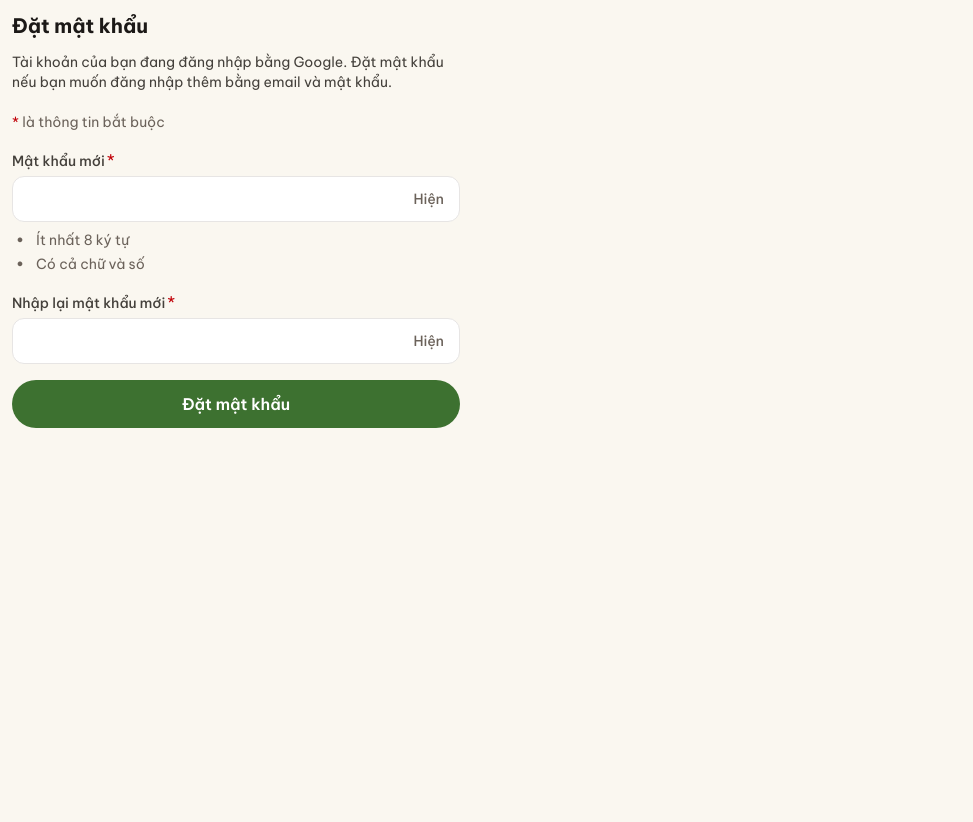
Test: ChangePasswordPage › sets a first password for a Google-only account, without asking for a current one
The image size is (973, 822).
Expected: the heading "Đặt mật khẩu" is shown, [12,13,148,38]
Type "matkhau123" into the password field labelled "Mật khẩu mới" at (236, 199), box [12,176,460,222]
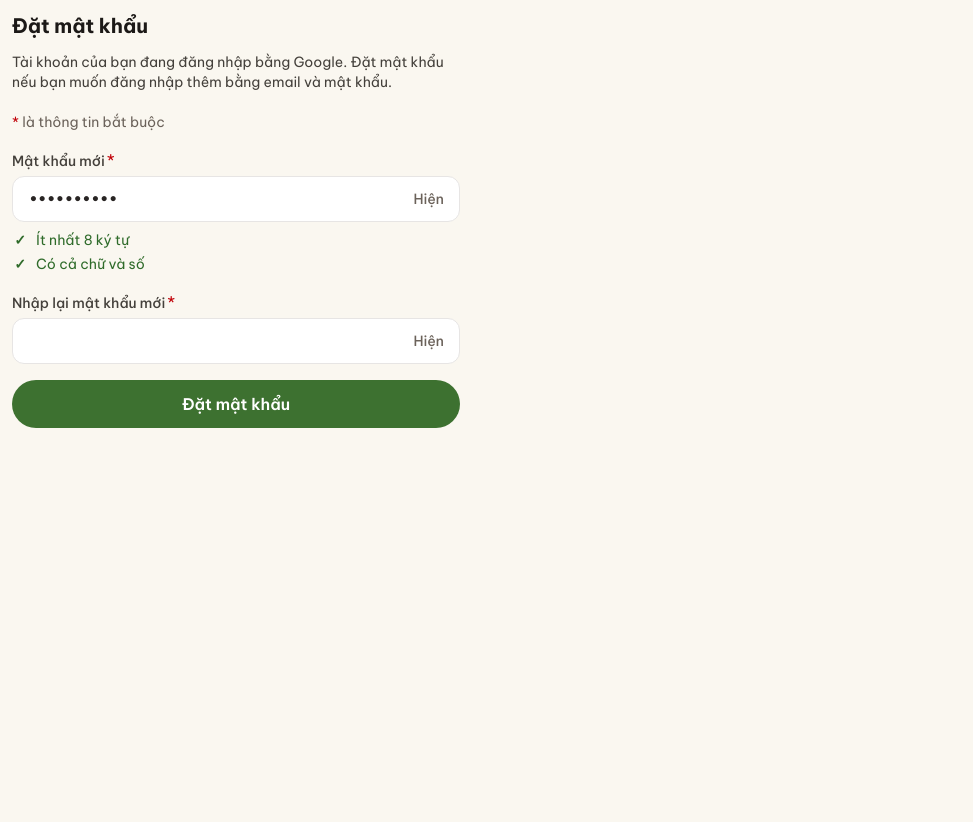
Type "matkhau123" into the password field labelled "Nhập lại mật khẩu mới" at (236, 341), box [12,318,460,364]
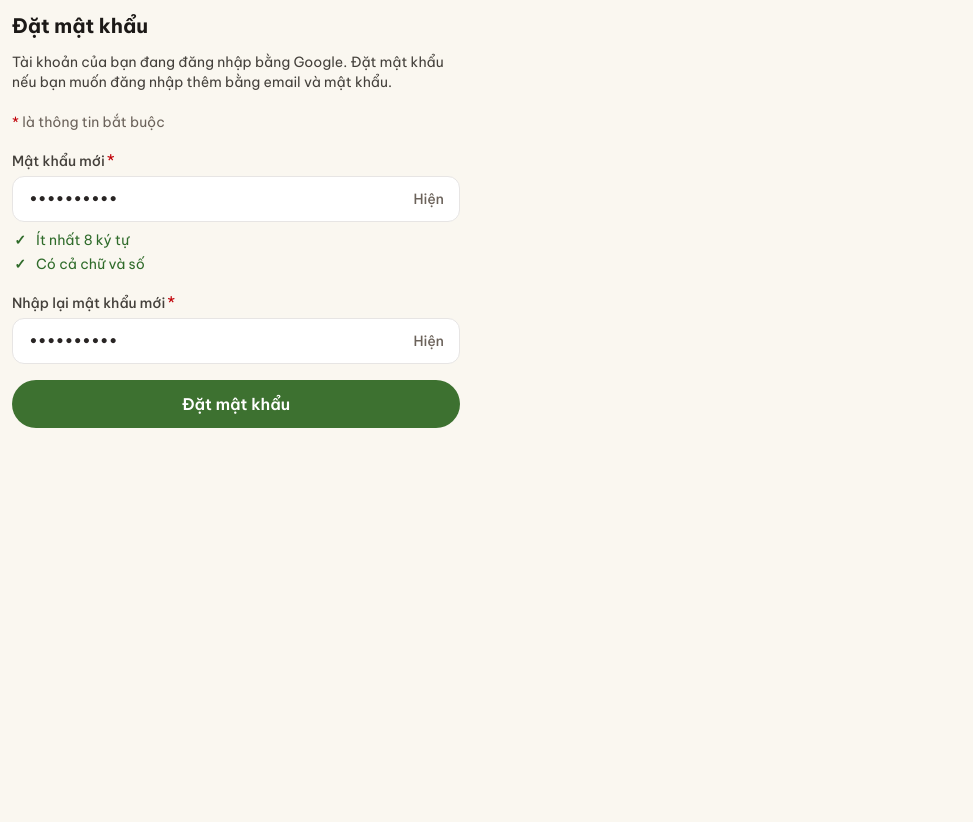
Click the button "Đặt mật khẩu" at (236, 404), box [12,380,460,428]
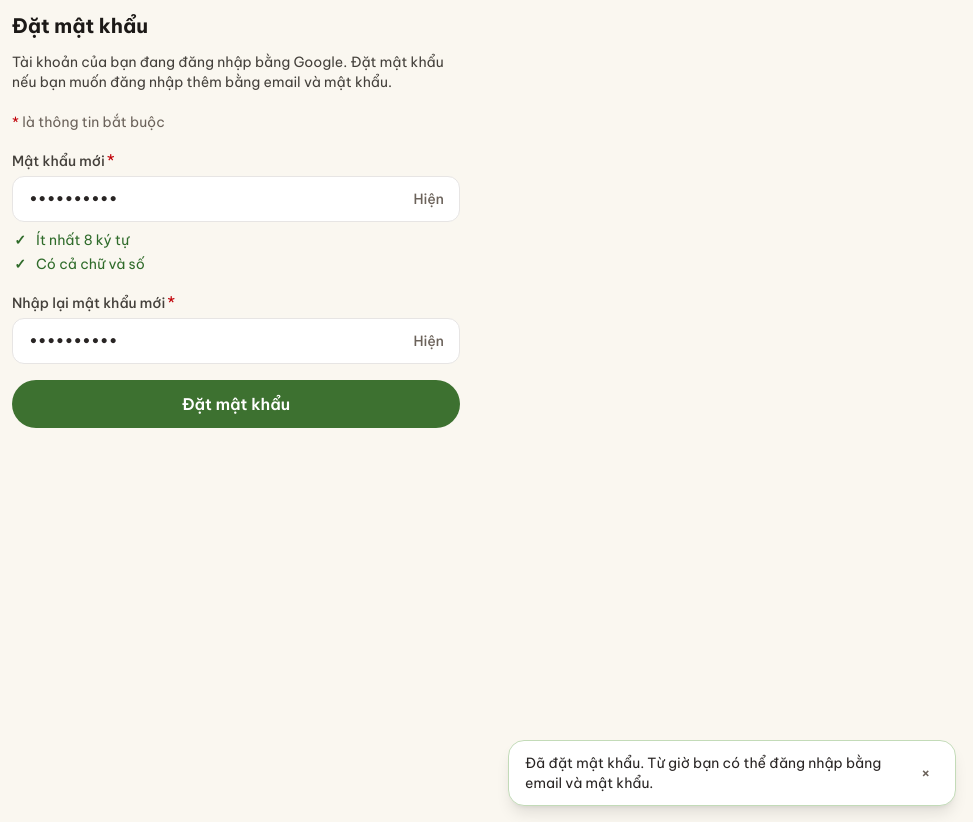
Result: the text "Đã đặt mật khẩu. Từ giờ bạn có thể đăng nhập bằng email và mật khẩu." is shown at [525,753,901,793]
